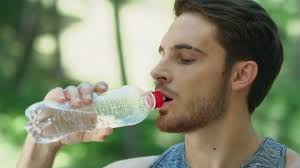Botella: (25, 85, 166, 143)
